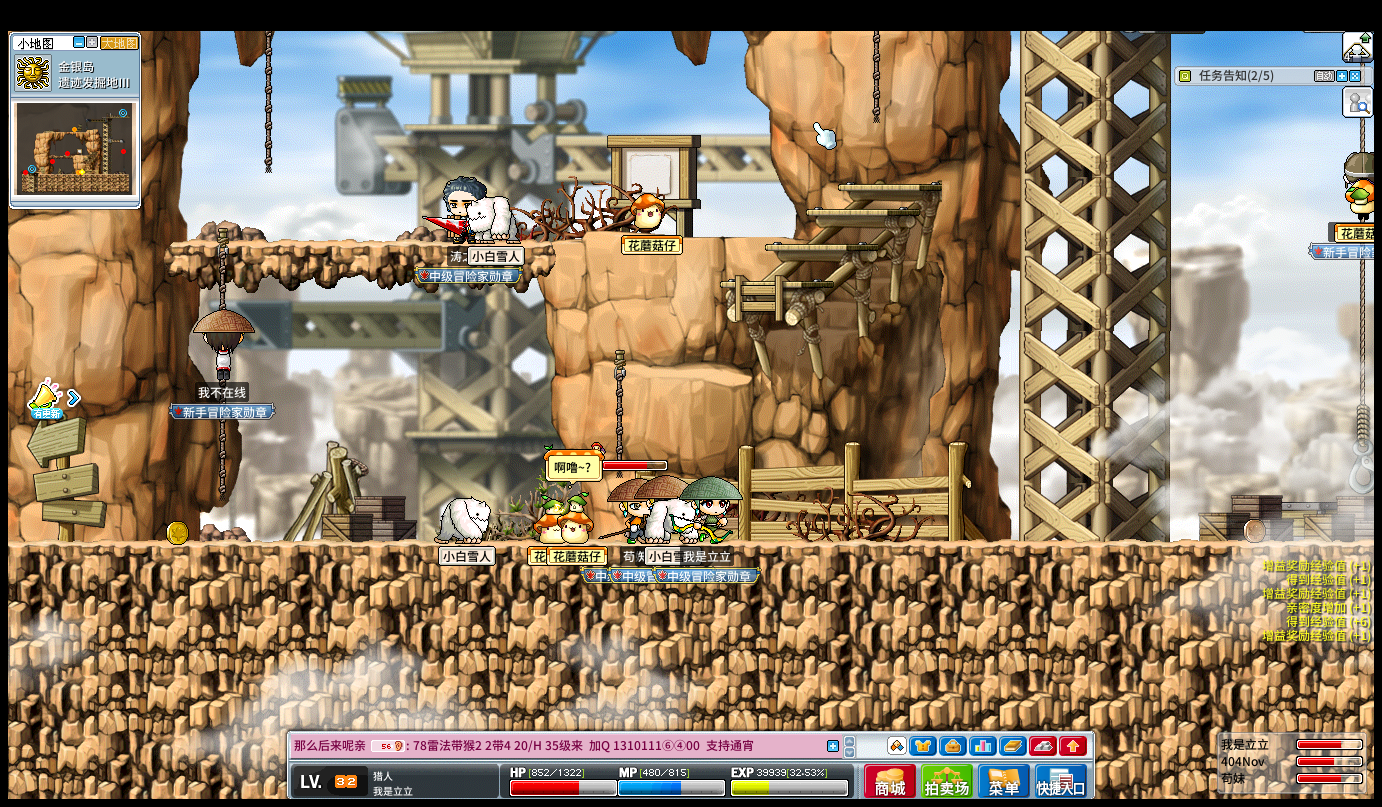floor: (8, 538, 1375, 549), (166, 239, 552, 249), (649, 366, 753, 385), (806, 209, 920, 216), (765, 244, 879, 251), (682, 235, 804, 241), (838, 184, 942, 191), (720, 282, 833, 287)
rope: (614, 349, 624, 459), (264, 30, 271, 173), (872, 31, 881, 123), (217, 227, 226, 309), (217, 420, 226, 501), (1359, 259, 1364, 404), (1356, 405, 1369, 441), (1359, 118, 1365, 152)
